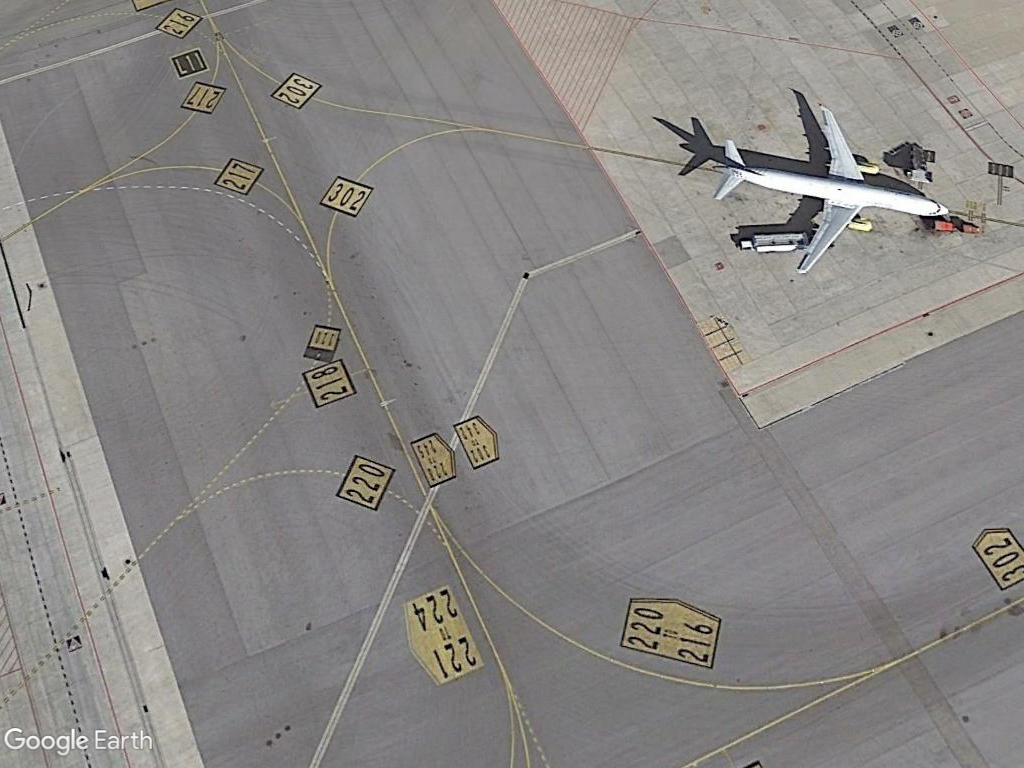airliner: (708, 93, 950, 279)
